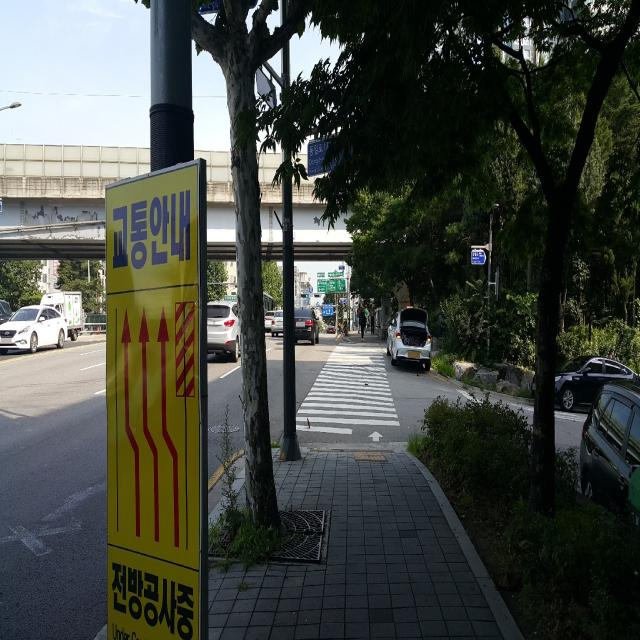횡단보도: (294, 342, 402, 444)
